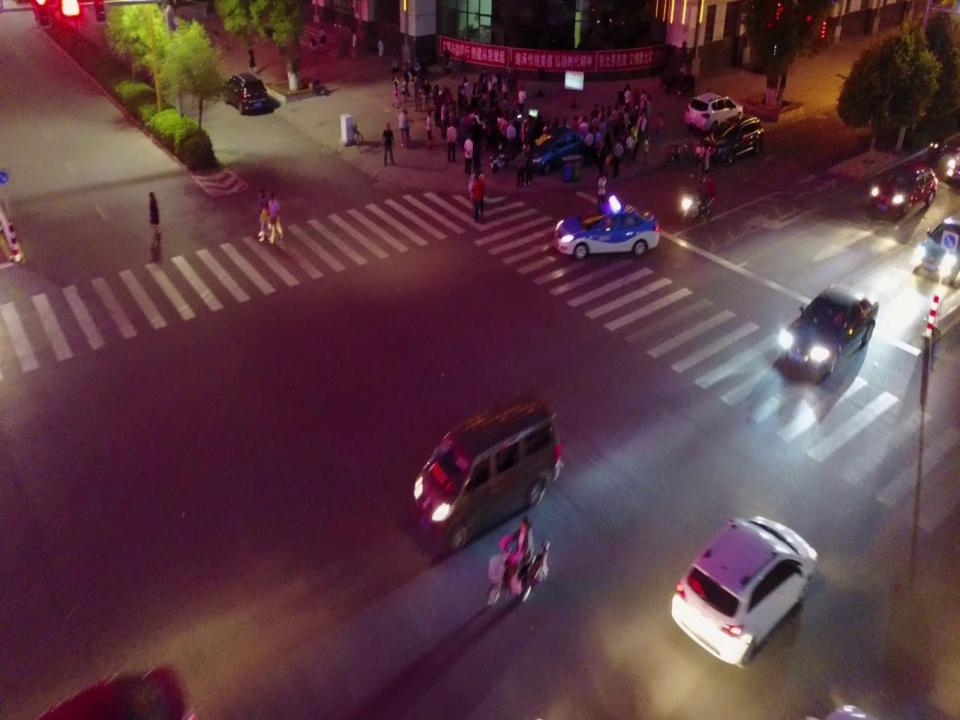car: (670, 512, 821, 666), (778, 278, 880, 374), (554, 195, 661, 260), (911, 212, 960, 285), (704, 113, 765, 165), (683, 91, 745, 135)
van: (412, 388, 562, 548), (868, 162, 940, 217), (220, 70, 268, 114)
